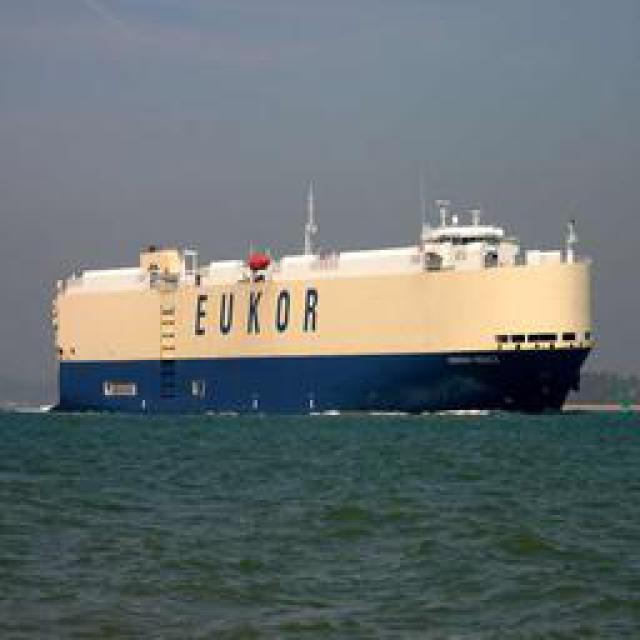Ship: (62, 194, 602, 417)
